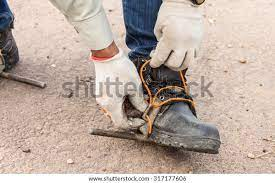Shoes: (143, 84, 224, 159)
gloves: (150, 3, 226, 80), (88, 57, 142, 135)
